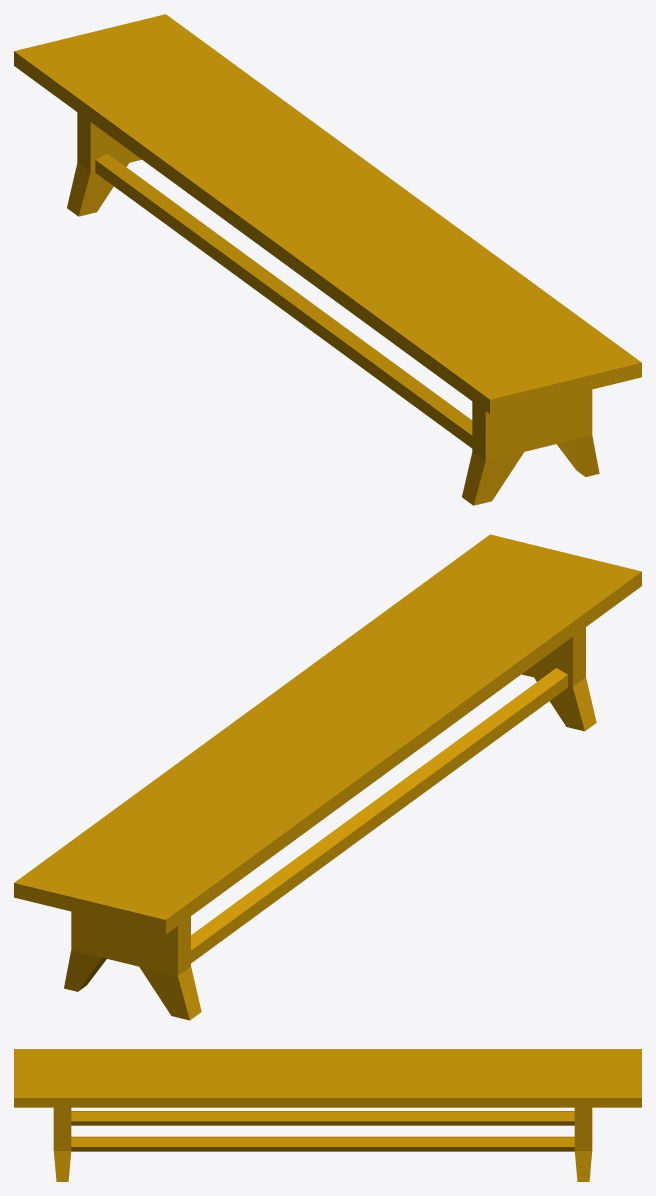
The model's file is Bench_01.dae.
3 renders of one model, top to bottom at view 1: azimuth 30°, elevation 25°; view 2: azimuth 150°, elevation 25°; view 3: azimuth 270°, elevation 25°, orthographic. The views are drawn at different scales.
Parts seen in each view (by area): view 1: Cube; view 2: Cube; view 3: Cube.
Boxes of the visible parts, x1=… form: Cube: x1=14, y1=14, x2=641, y2=505; Cube: x1=14, y1=534, x2=641, y2=1020; Cube: x1=14, y1=1049, x2=641, y2=1181.
Size of the model in its own units: 14.53 by 78.9 by 12.09.
